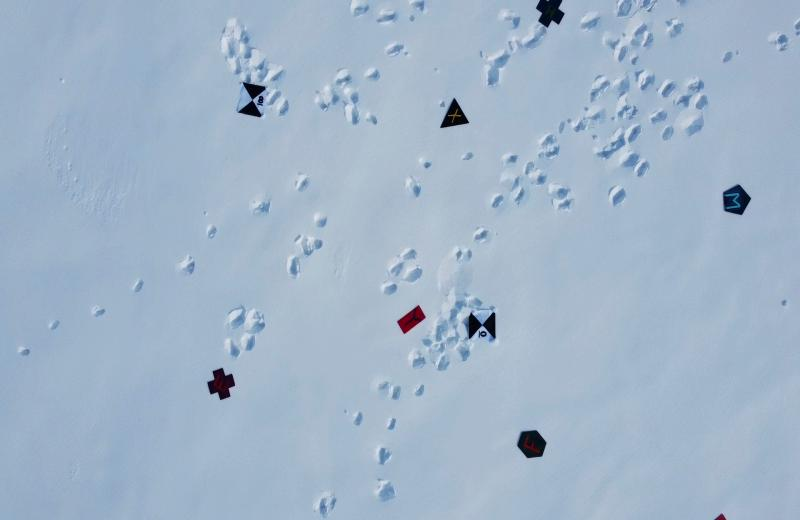Cross: (204, 363, 237, 404), (533, 0, 566, 29)
Hexagon: (514, 420, 547, 465)
Pentagon: (718, 178, 752, 219)
Rectangle: (392, 300, 430, 338)
Triangle: (439, 94, 471, 132)
